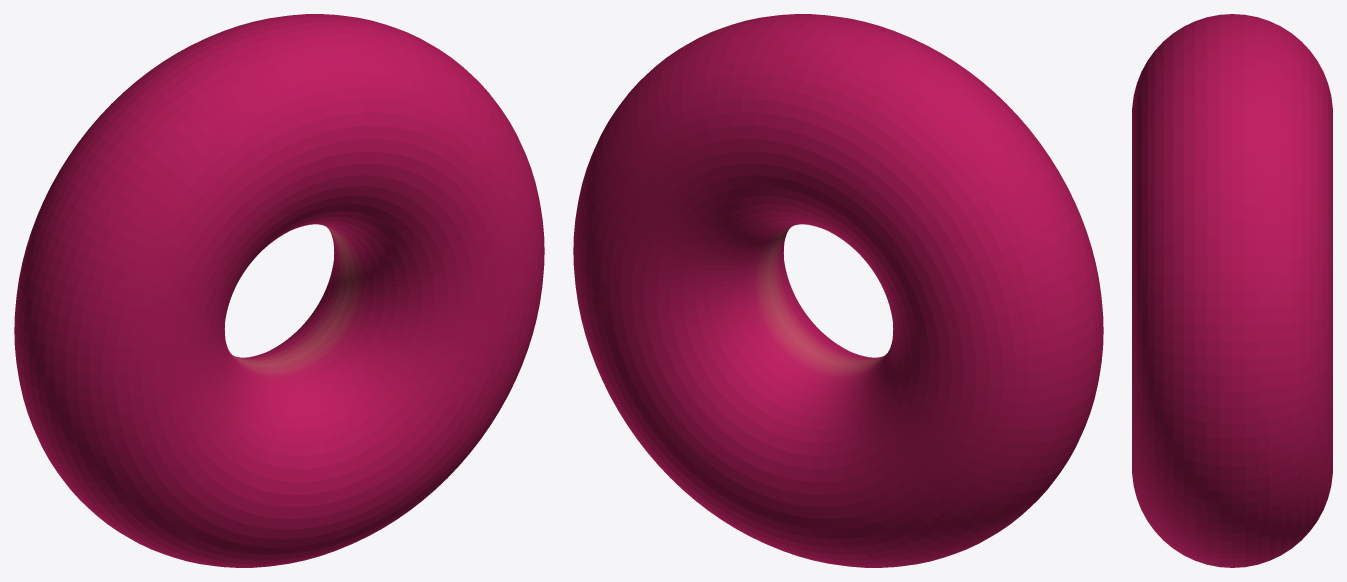
3 renders of one model, left to right at view 1: azimuth 30°, elevation 25°; view 2: azimuth 150°, elevation 25°; view 3: azimuth 270°, elevation 25°, orthographic. The views are drawn at different scales.
Parts seen in each view (by area): view 1: world; view 2: world; view 3: world.
Part boxes in pixels (left/top/right/bottom): world: left=14, top=14, right=544, bottom=567; world: left=573, top=14, right=1103, bottom=567; world: left=1132, top=14, right=1332, bottom=567.
Size of the model in its own units: 20.93 by 20.93 by 7.59.
